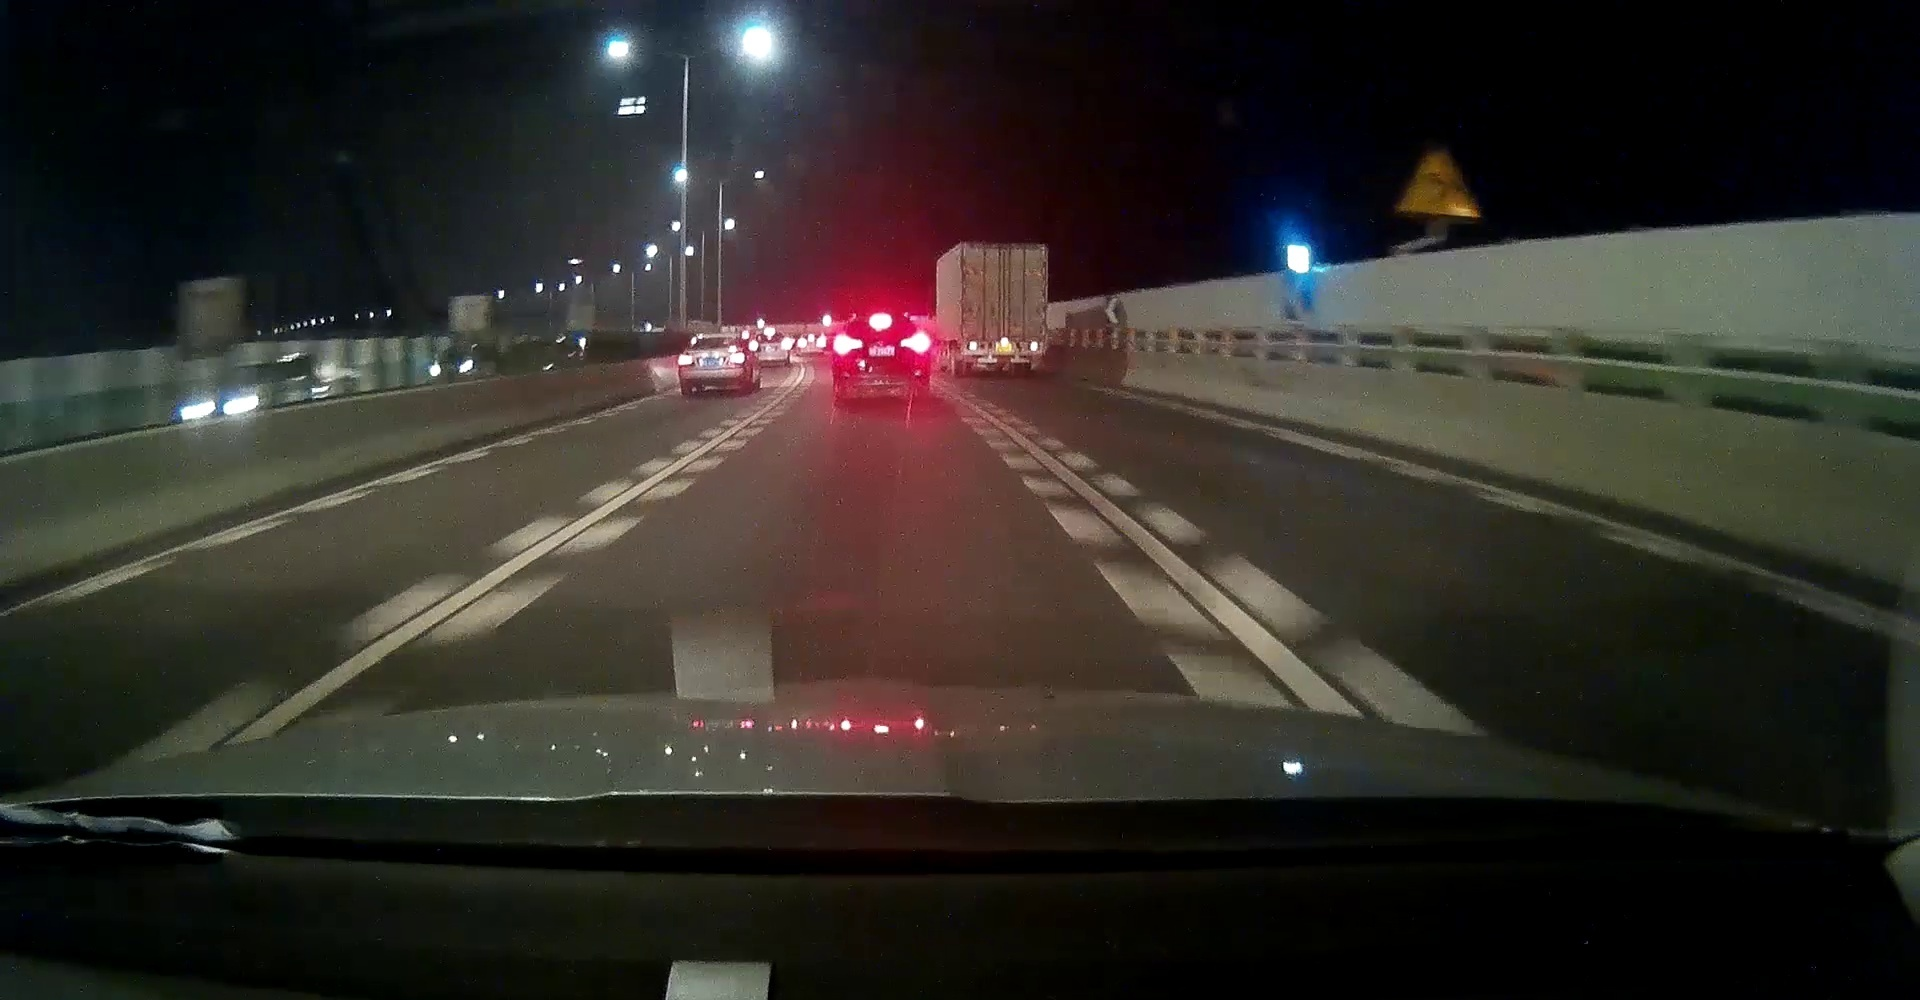L_light: (833, 335, 863, 350), (965, 341, 985, 352), (678, 357, 695, 365), (749, 343, 758, 349)
R_light: (900, 334, 930, 349), (1022, 341, 1044, 352), (729, 354, 744, 363), (781, 343, 791, 350)
T_light: (869, 316, 891, 326), (997, 247, 1013, 253), (709, 338, 723, 341), (764, 331, 775, 336)
night-brake: (833, 312, 932, 396), (748, 327, 792, 367)
night-no: (957, 241, 1049, 377), (678, 334, 747, 395)
